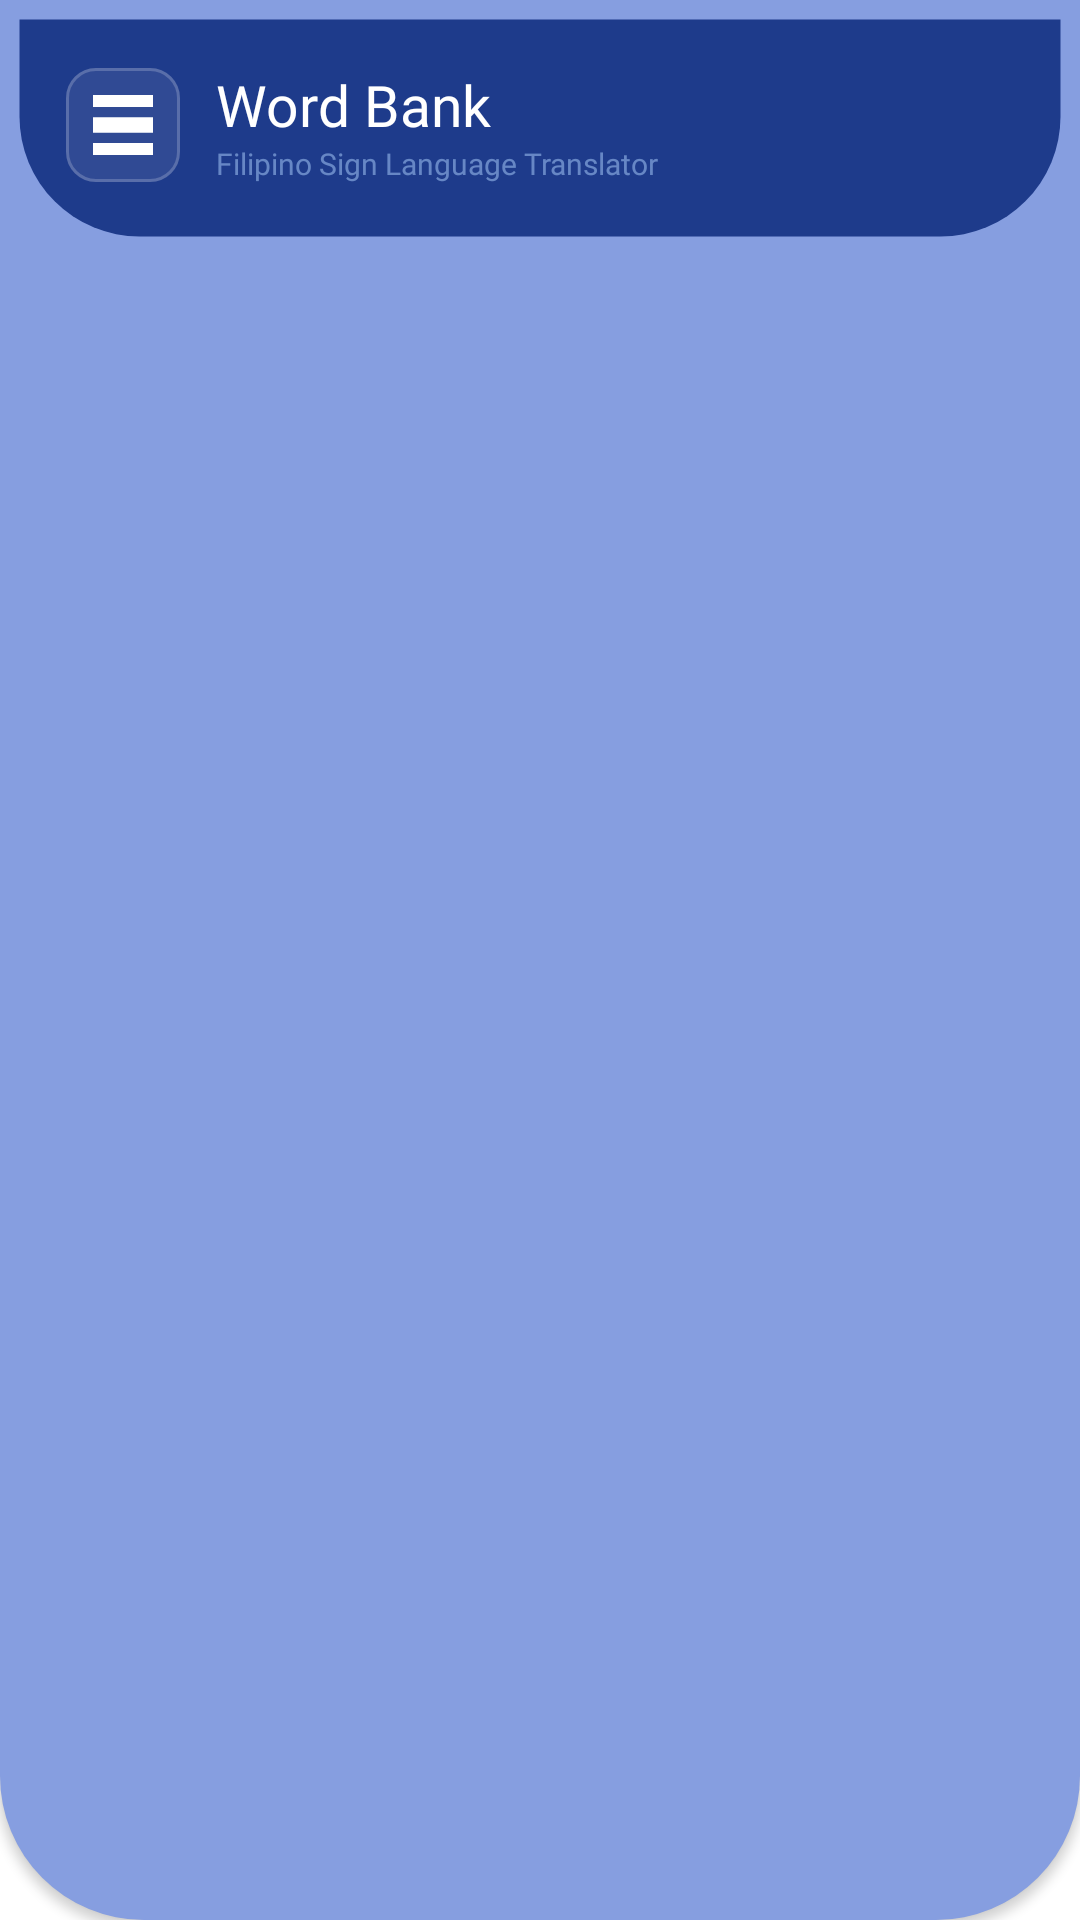

Where icons sit on this 1080px x 1920px app screen, as (x1, y1, x2, y2):
Open menu: (66, 68, 180, 182)
